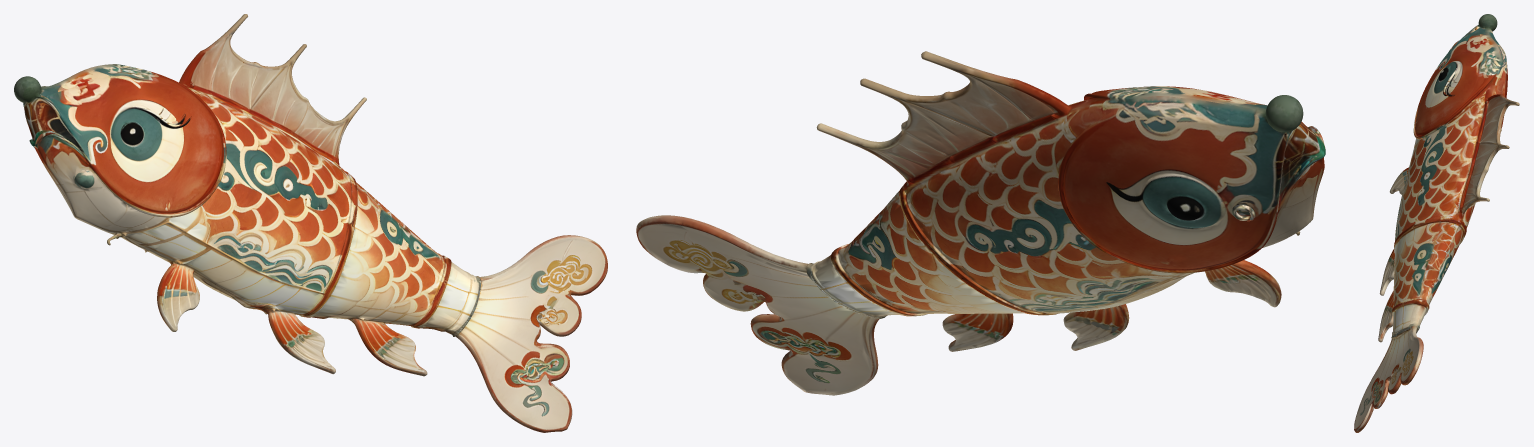
File: zhanqi-v1 (2).glb
3 renders of one model, left to right at view 1: azimuth 30°, elevation 25°; view 2: azimuth 150°, elevation 25°; view 3: azimuth 270°, elevation 25°, orthographic. The views are drawn at different scales.
Visible parts, largest first — view 1: node_0; view 2: node_0; view 3: node_0.
Boxes of the visible parts, left/top/right/bottom form: node_0: left=14, top=14, right=607, bottom=432; node_0: left=636, top=51, right=1325, bottom=395; node_0: left=1354, top=14, right=1519, bottom=432.
Size of the model in its own units: 0.9775 by 0.6814 by 0.3796.
Materials: 1 (1 with a texture image).
